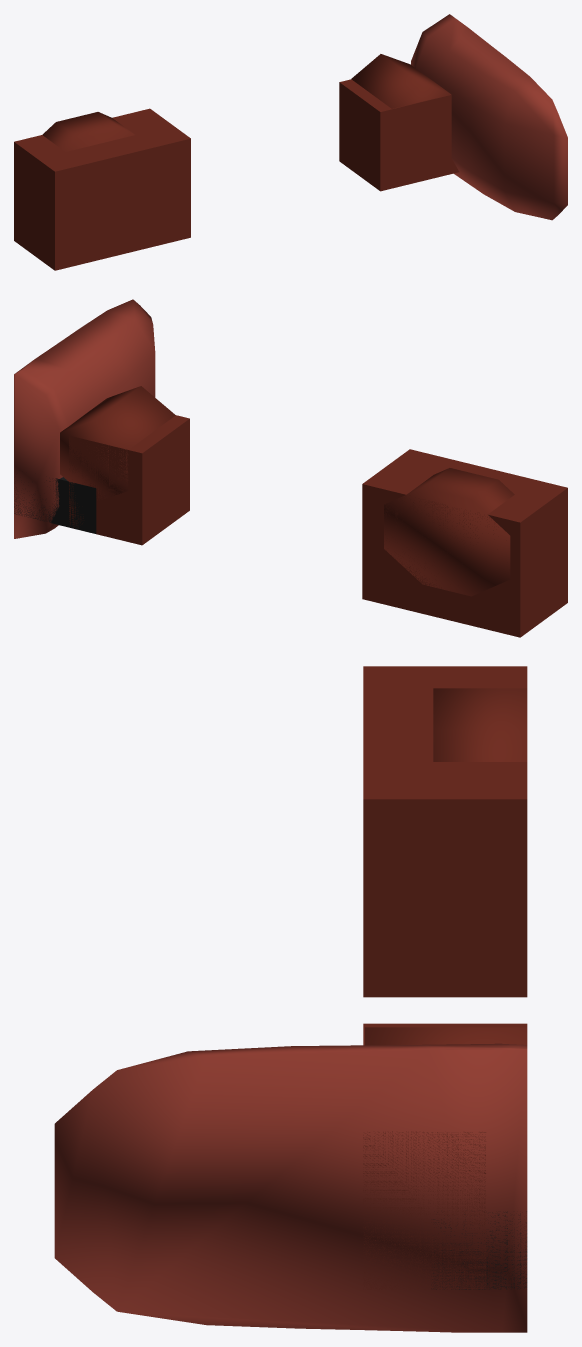
The model's file is newsht-41.glb.
3 renders of one model, top to bottom at view 1: azimuth 30°, elevation 25°; view 2: azimuth 150°, elevation 25°; view 3: azimuth 270°, elevation 25°, orthographic. The views are drawn at different scales.
Visible parts, largest first — view 1: newsht-41; view 2: newsht-41; view 3: newsht-41.
Part boxes in pixels (bbox=[...]): newsht-41: bbox=[14, 14, 567, 270]; newsht-41: bbox=[14, 299, 567, 637]; newsht-41: bbox=[54, 666, 527, 1332].
Size of the model in its own units: 1.84 by 0.5717 by 0.8643.
